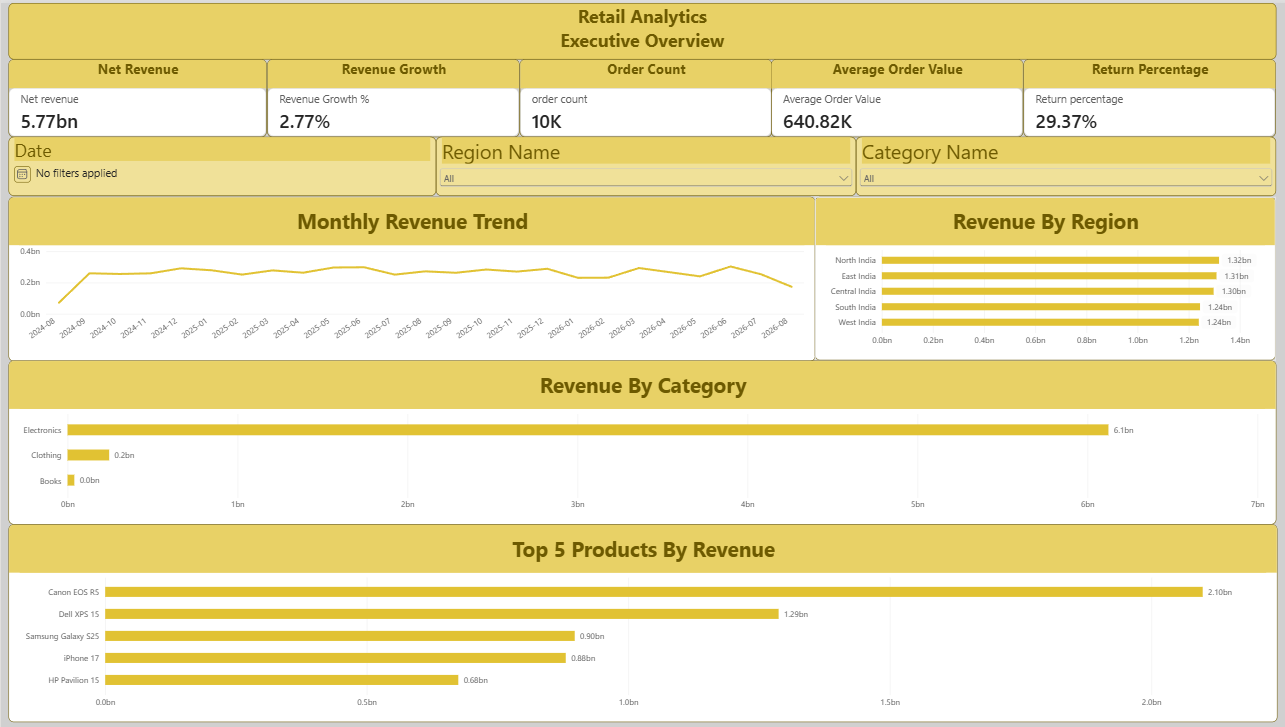

Layout of this report page (visuals, bound fields, positions):
{"tool":"powerbi","page":{"name":"Executive Overview","canvas":[1920,1080],"ordinal":0},"visuals":[{"type":"textbox","box":[10.3,0,1885.4,84.4],"z":0},{"type":"cardVisual","title":"Net Revenue","fields":{"Data":["_measures.Net revenue"]},"box":[10.3,84.4,384,115.8],"z":0,"group":"g1"},{"type":"slicer","fields":{"Values":["DimDate.Date"]},"box":[10.3,200.4,636.2,87.8],"z":0,"group":"g2"},{"type":"group","id":"g1","title":"Group 1","box":[10.3,84.4,1885.4,115.3],"z":1000},{"type":"cardVisual","title":"Revenue Growth","fields":{"Data":["_measures.Revenue Growth %"]},"box":[394.3,84.4,375.4,115.8],"z":1000,"group":"g1"},{"type":"slicer","fields":{"Values":["regions.region_name"]},"box":[646.4,199.7,624.6,87.8],"z":1000,"group":"g2"},{"type":"cardVisual","title":"Order Count","fields":{"Data":["_measures.order count"]},"box":[769.7,84.4,375.4,115.8],"z":2000,"group":"g1"},{"type":"slicer","fields":{"Values":["DimProduct.Table.category_name"]},"box":[1271.1,199.7,624.6,87.8],"z":2000,"group":"g2"},{"type":"lineChart","title":"Monthly Revenue Trend","fields":{"Category":["DimDate.Year Month"],"Y":["_measures.revenue"]},"box":[10.3,288.2,1200,244.9],"z":2000},{"type":"cardVisual","title":"Average Order Value ","fields":{"Data":["_measures.Average Order Value"]},"box":[1145.2,84.4,375.4,115.8],"z":3000,"group":"g1"},{"type":"clusteredBarChart","title":"Revenue By Region","fields":{"Category":["regions.region_name"],"Y":["_measures.revenue"]},"box":[1210.3,288.2,685.4,242.9],"z":3000},{"type":"cardVisual","title":"Return Percentage","fields":{"Data":["_measures.Return percentage"]},"box":[1520.6,84.4,375.4,115.8],"z":4000,"group":"g1"},{"type":"clusteredBarChart","title":"Revenue By Category","fields":{"Category":["DimProduct.Table.category_name"],"Y":["_measures.revenue"]},"box":[10.3,531,1885.7,244.3],"z":4000},{"type":"clusteredBarChart","title":"Top 5 Products By Revenue","fields":{"Category":["DimProduct.product_name"],"Y":["_measures.revenue"]},"box":[10.3,776,1887.5,294.3],"z":5000},{"type":"group","id":"g2","title":"Group 2","box":[10.3,199.7,1885.4,88.5],"z":6000}]}

Visuals, with their boxes in screenshot pixels (x1, y1, x2, y2), scaled from the page's 1920x1080 canvas onto the 1285x727 screenshot:
textbox: 7/0/1269/57
"Net Revenue" cardVisual: 7/57/264/135
slicer - DimDate.Date: 7/135/433/194
"Group 1" group: 7/57/1269/134
"Revenue Growth" cardVisual: 264/57/515/135
slicer - regions.region_name: 433/134/851/194
"Order Count" cardVisual: 515/57/766/135
slicer - DimProduct.Table.category_name: 851/134/1269/194
"Monthly Revenue Trend" lineChart: 7/194/810/359
"Average Order Value " cardVisual: 766/57/1018/135
"Revenue By Region" clusteredBarChart: 810/194/1269/358
"Return Percentage" cardVisual: 1018/57/1269/135
"Revenue By Category" clusteredBarChart: 7/357/1269/522
"Top 5 Products By Revenue" clusteredBarChart: 7/522/1270/720
"Group 2" group: 7/134/1269/194
